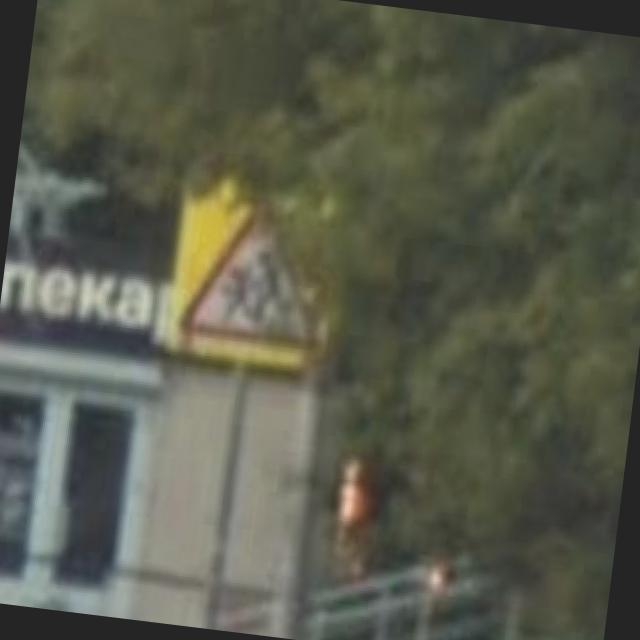Dzieci: (174, 182, 340, 354)
